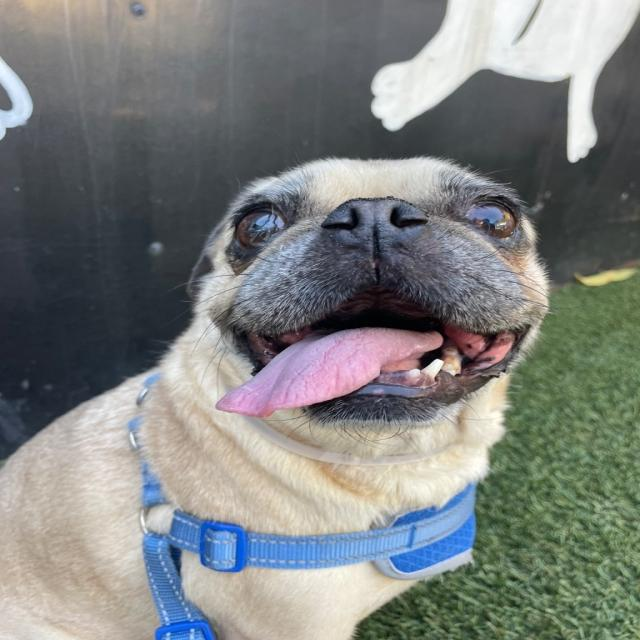pug_dog: (154, 150, 568, 457)
